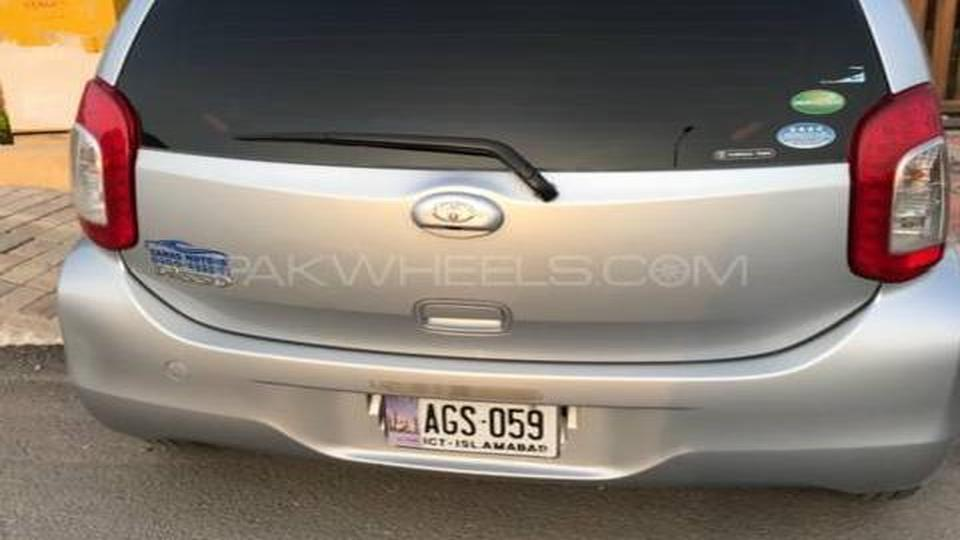NumberPlate: (363, 378, 581, 467)
